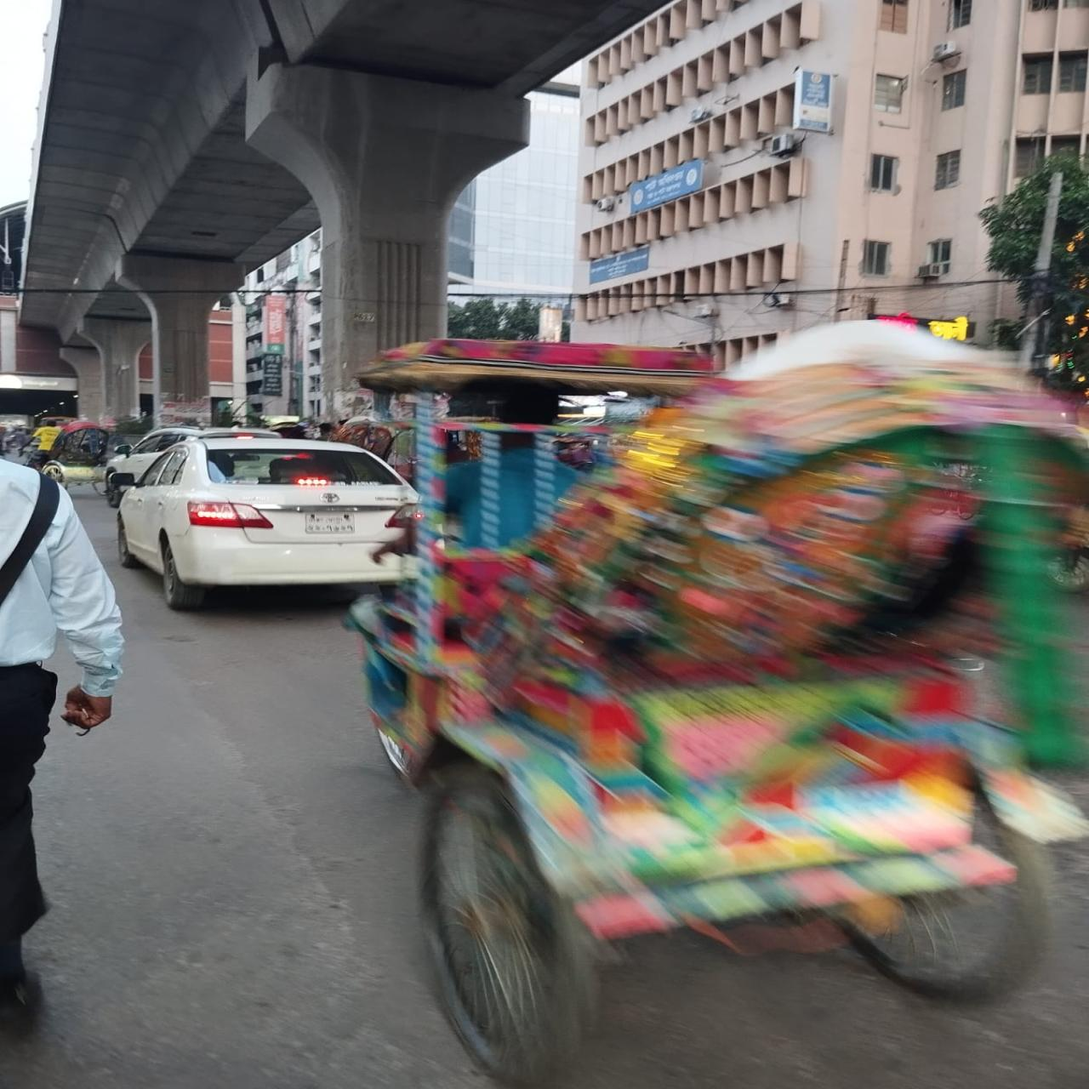person: (0, 453, 123, 940)
